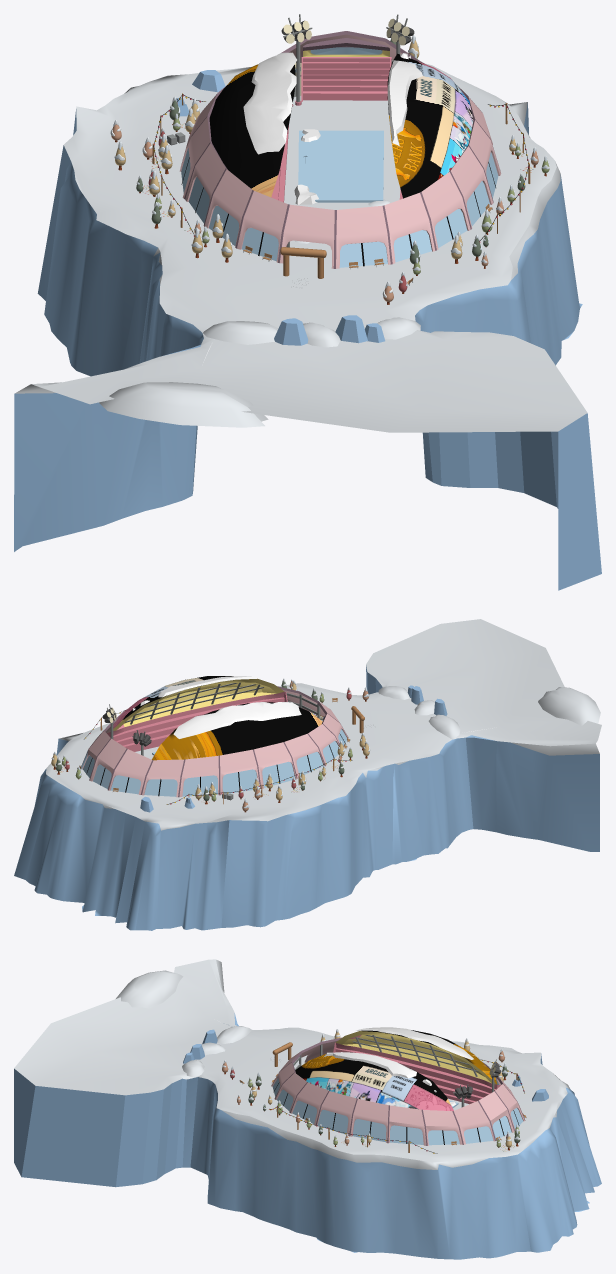
The model's file is Individual_JamboreeSquare_02.fbx.
3 renders of one model, top to bottom at view 1: azimuth 30°, elevation 25°; view 2: azimuth 150°, elevation 25°; view 3: azimuth 270°, elevation 25°, orthographic. The views are drawn at different scales.
Visible parts, largest first — view 1: pasted__pasted__Berg, pasted__polySurface152, pasted__Building_JamboreeRoof, pasted__Snow, pasted__SnowPatch9, pasted__SnowPatch4, pasted__Object_IceRock5; view 2: pasted__pasted__Berg, pasted__polySurface152, pasted__Building_JamboreeRoof, pasted__Snow, pasted__SnowPatch9, pCube12, pasted__SnowPatch4; view 3: pasted__pasted__Berg, pasted__polySurface152, pasted__Building_JamboreeRoof, pasted__Snow, pasted__SnowPatch9, pCube11, pasted__SnowPatch4.
Part boxes in pixels (bbox=[...]): pasted__pasted__Berg: bbox=[14, 63, 601, 590]; pasted__polySurface152: bbox=[179, 14, 501, 268]; pasted__Building_JamboreeRoof: bbox=[209, 52, 473, 198]; pasted__Snow: bbox=[243, 52, 422, 204]; pasted__SnowPatch9: bbox=[99, 382, 268, 427]; pasted__SnowPatch4: bbox=[203, 321, 278, 344]; pasted__Object_IceRock5: bbox=[274, 318, 308, 345]; pasted__pasted__Berg: bbox=[14, 619, 601, 930]; pasted__polySurface152: bbox=[81, 679, 348, 797]; pasted__Building_JamboreeRoof: bbox=[113, 676, 322, 760]; pasted__Snow: bbox=[132, 676, 301, 738]; pasted__SnowPatch9: bbox=[538, 687, 600, 725]; pCube12: bbox=[125, 682, 263, 724]; pasted__SnowPatch4: bbox=[428, 714, 460, 739]; pasted__pasted__Berg: bbox=[14, 959, 601, 1259]; pasted__polySurface152: bbox=[271, 1031, 525, 1145]; pasted__Building_JamboreeRoof: bbox=[295, 1030, 496, 1111]; pasted__Snow: bbox=[324, 1027, 473, 1106]; pasted__SnowPatch9: bbox=[116, 970, 183, 1008]; pCube11: bbox=[352, 1035, 479, 1076]; pasted__SnowPatch4: bbox=[217, 1026, 251, 1043].
Size of the model in its own units: 13503 by 4535 by 16493.
